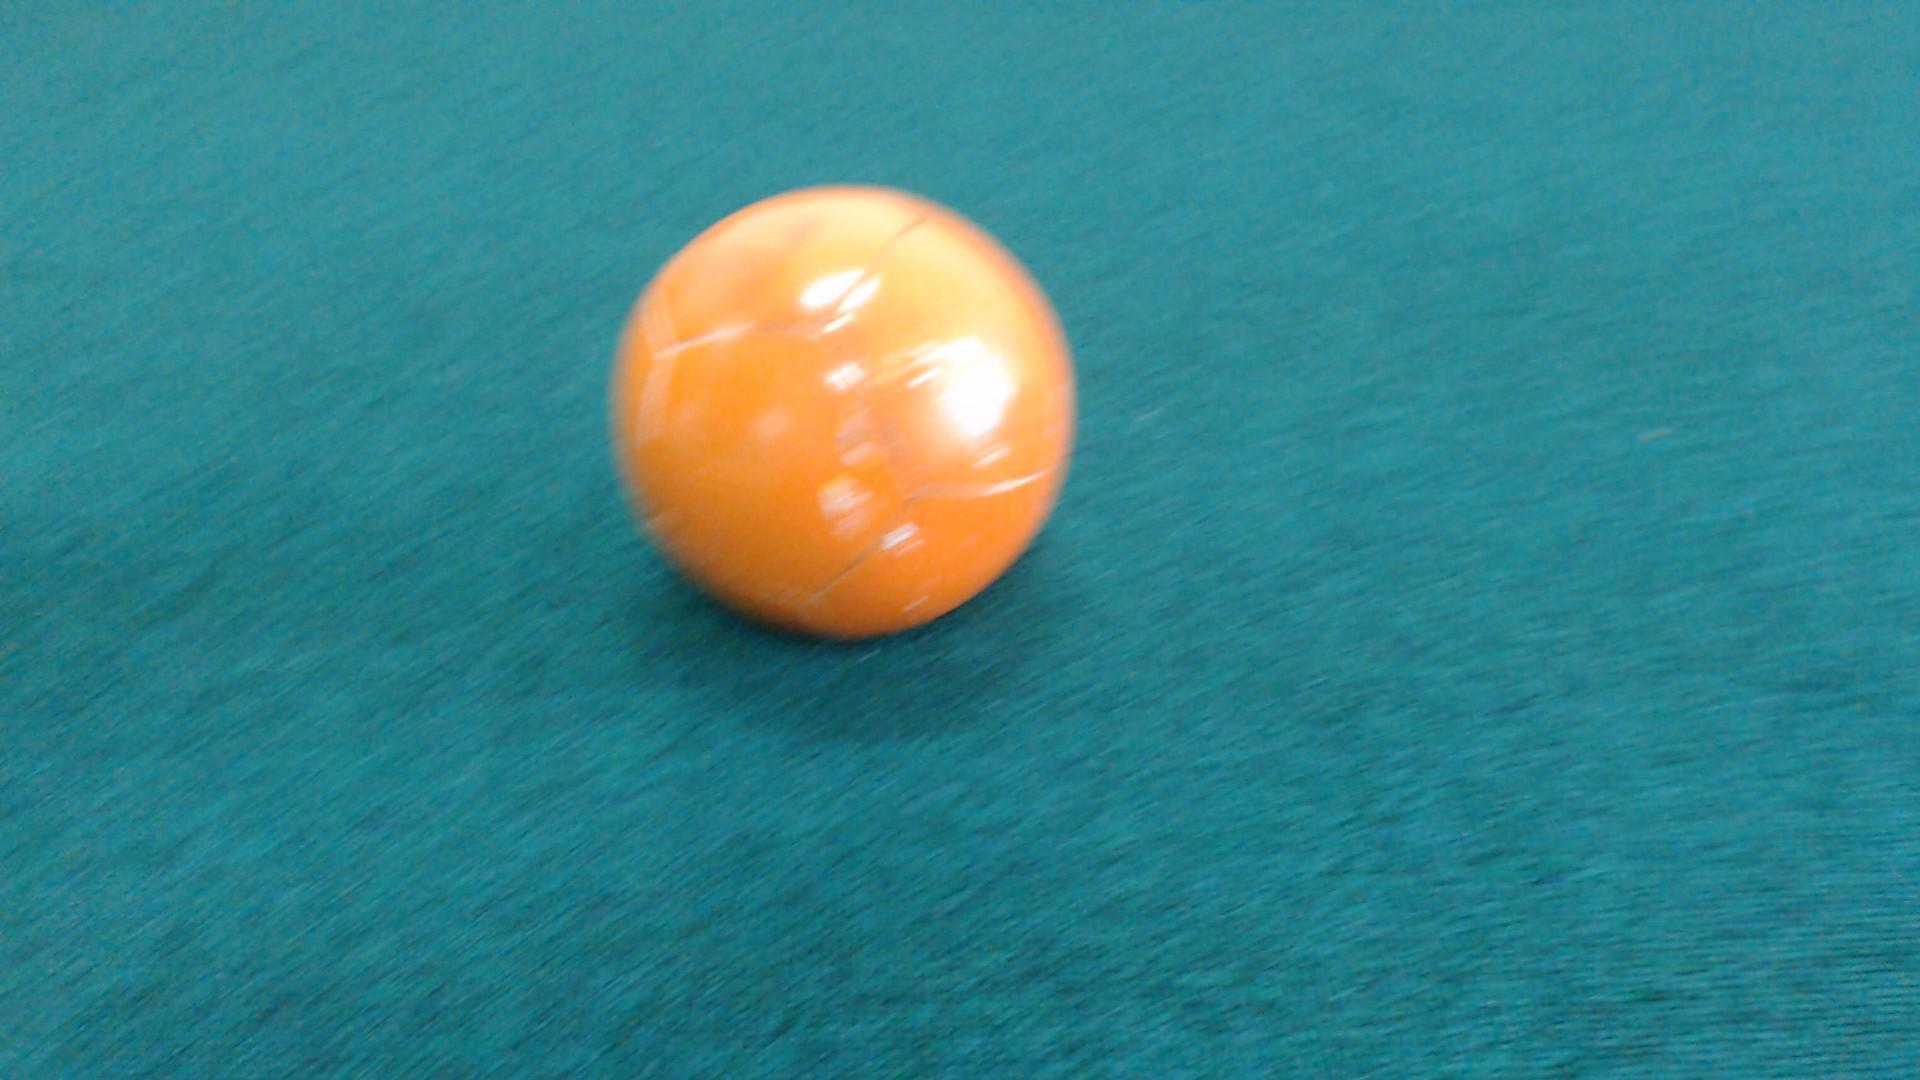bola: (585, 166, 1085, 662)
